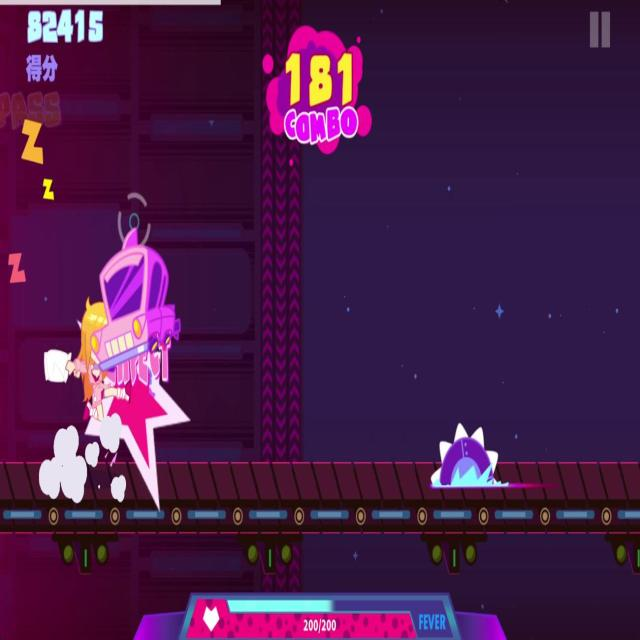che: (96, 248, 182, 377)
ci: (434, 423, 562, 489)
